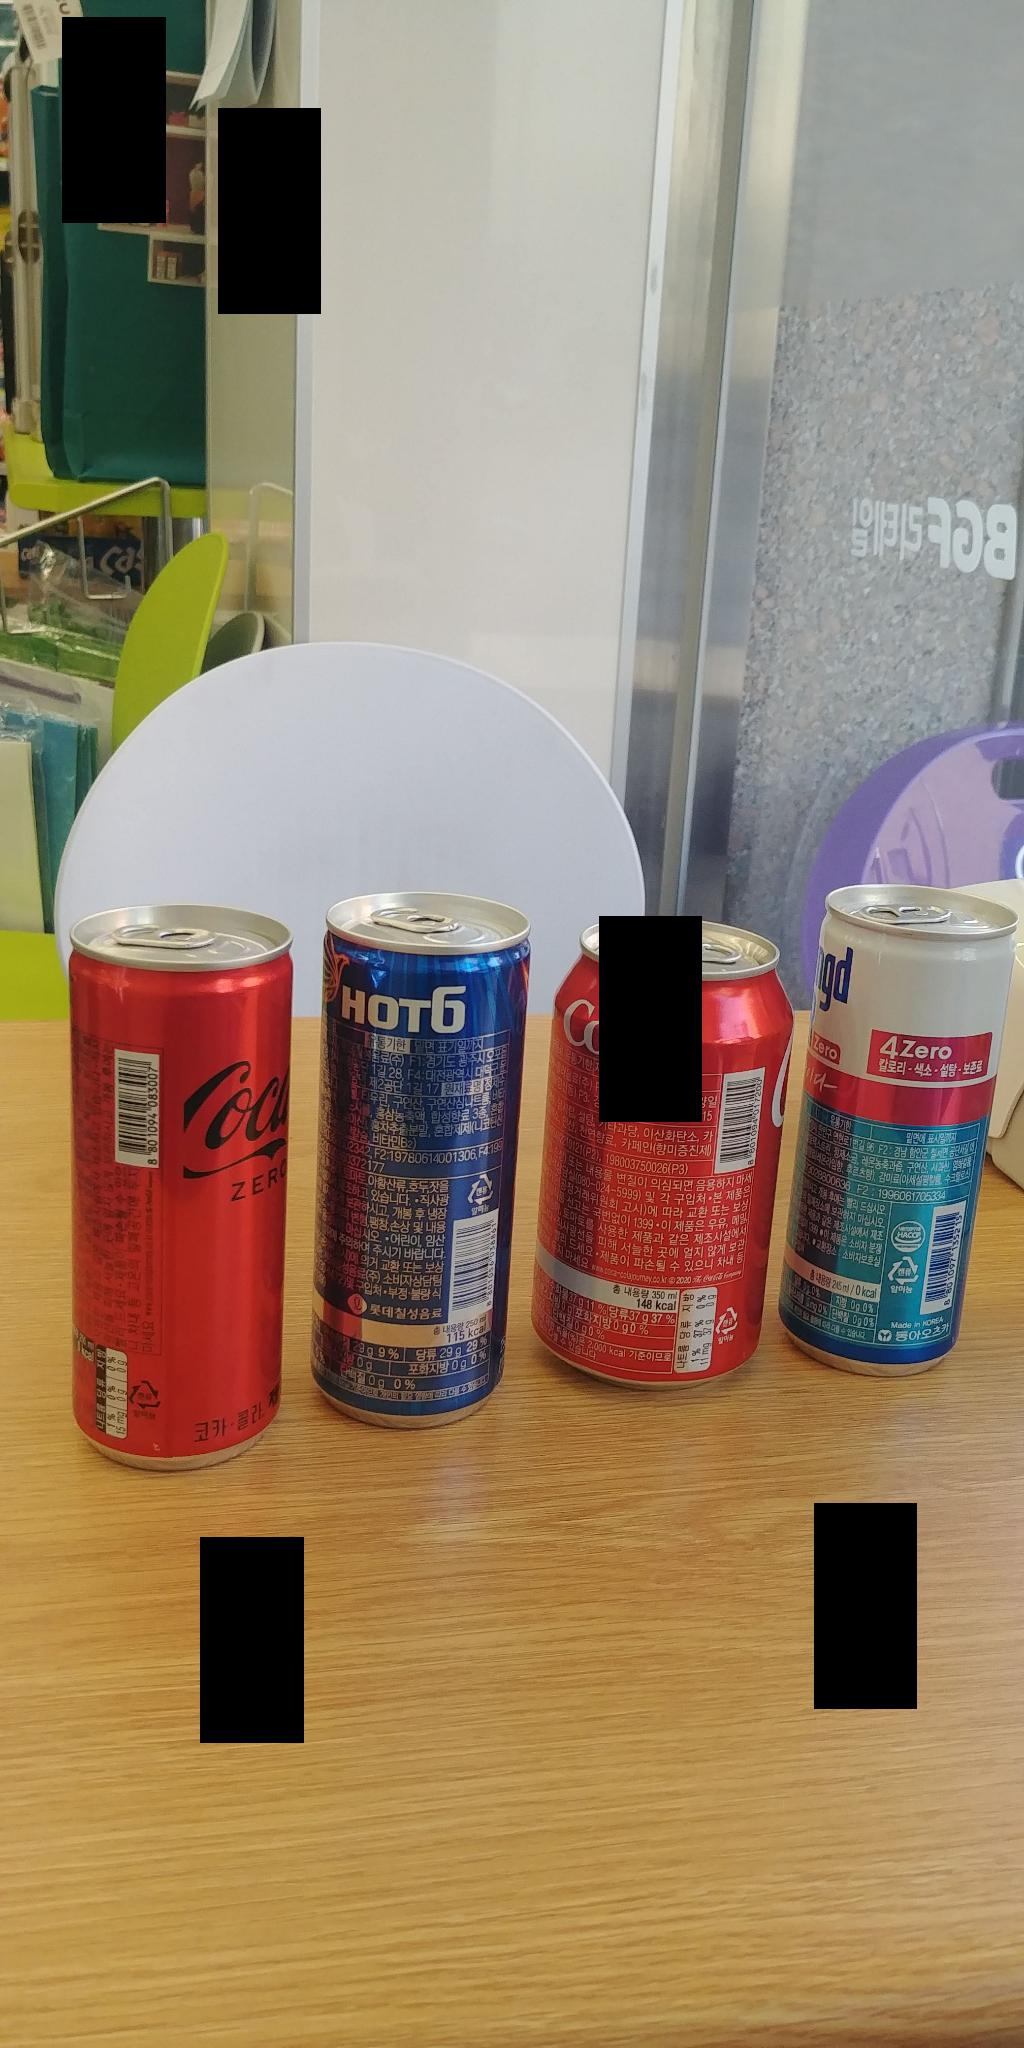cocacola: (543, 910, 793, 1395)
hotsix_org: (321, 891, 511, 1405)
narangdcider: (815, 856, 1024, 1364)
